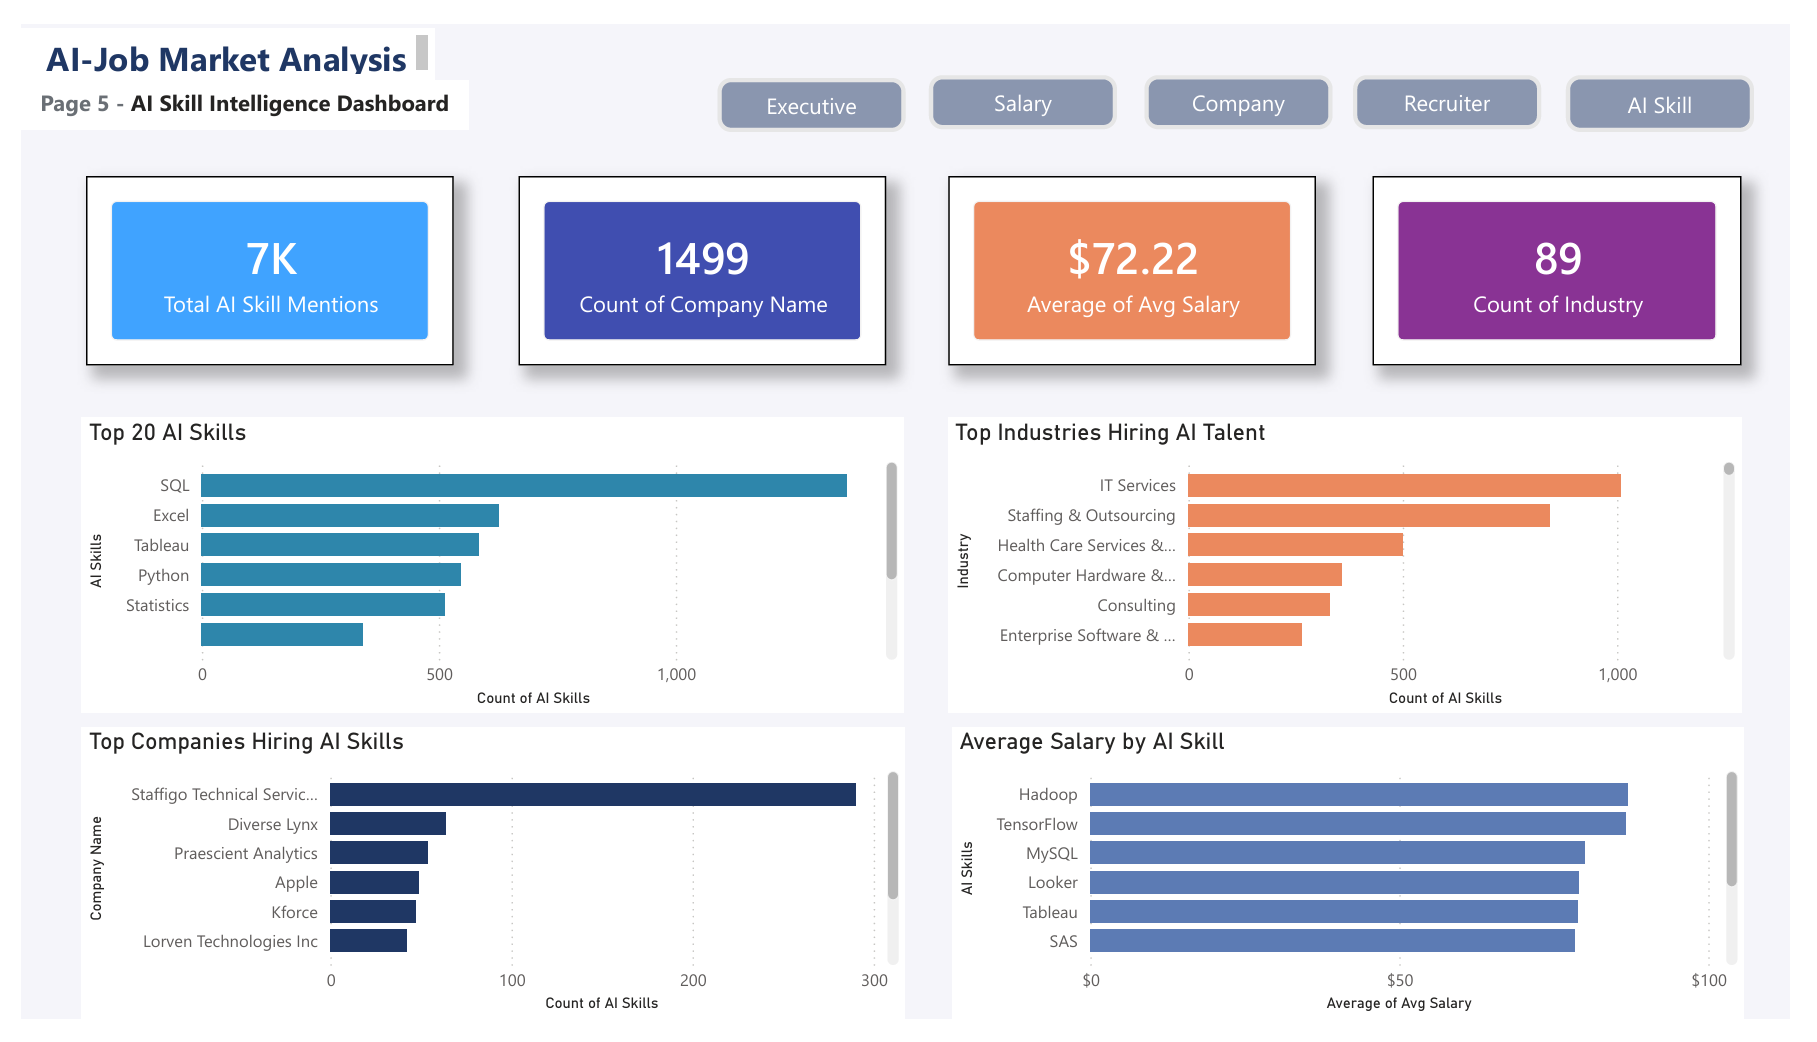

This screenshot's page, from the dashboard's own definition file:
{"tool":"powerbi","page":{"name":"AI Skill Intelligence Dashboard","canvas":[1280,720],"ordinal":4},"visuals":[{"type":"textbox","box":[0,2.7,299.1,38.4],"z":0},{"type":"textbox","box":[0,41.2,323.8,35.7],"z":1000},{"type":"cardVisual","fields":{"Data":["Count(jobs_ai.Industry)"]},"box":[978.4,109.8,266.2,137.2],"z":6000},{"type":"cardVisual","fields":{"Data":["jobs_ai.Total AI Skill Mentions"]},"box":[46.7,109.8,266.2,137.2],"z":7000},{"type":"cardVisual","fields":{"Data":["Count(jobs_ai.Company Name)"]},"box":[359.5,109.8,266.2,137.2],"z":8000},{"type":"cardVisual","fields":{"Data":["Avg(jobs_ai.Avg Salary)"]},"box":[671,109.8,266.2,137.2],"z":9000},{"type":"clusteredBarChart","title":"Top 20 AI Skills","fields":{"Category":["jobs_ai.AI Skills"],"Y":["CountNonNull(jobs_ai.AI Skills)"]},"box":[43.9,285.4,595.5,214.1],"z":10000},{"type":"clusteredBarChart","title":"Average Salary by AI Skill","fields":{"Category":["jobs_ai.AI Skills"],"Y":["Avg(jobs_ai.Avg Salary)"]},"box":[673.8,509.1,573.6,211.3],"z":11000},{"type":"clusteredBarChart","title":"Top Industries Hiring AI Talent","fields":{"Category":["jobs_ai.Industry"],"Y":["CountNonNull(jobs_ai.AI Skills)"]},"box":[671,285.4,573.6,214.1],"z":12000},{"type":"clusteredBarChart","title":"Top Companies Hiring AI Skills","fields":{"Category":["jobs_ai.Company Name"],"Y":["CountNonNull(jobs_ai.AI Skills)"]},"box":[44,509,596,211],"z":13000},{"type":"actionButton","box":[504.4,38.8,135.8,38.8],"z":13001},{"type":"actionButton","box":[656.8,37.4,135.8,38.8],"z":13002},{"type":"actionButton","box":[964.4,37.4,135.8,38.8],"z":13004},{"type":"actionButton","box":[1118.2,37.4,135.8,40.2],"z":13005},{"type":"actionButton","box":[813.3,37.4,135.8,38.8],"z":13006}]}

Visuals, with their boxes in screenshot pixels (x1, y1, x2, y2), scaled from the page's 1280x720 canvas onto the 1817x1042 screenshot:
textbox: [x1=0, y1=4, x2=425, y2=59]
textbox: [x1=0, y1=60, x2=460, y2=111]
cardVisual - Count(jobs_ai.Industry): [x1=1389, y1=159, x2=1767, y2=357]
cardVisual - jobs_ai.Total AI Skill Mentions: [x1=66, y1=159, x2=444, y2=357]
cardVisual - Count(jobs_ai.Company Name): [x1=510, y1=159, x2=888, y2=357]
cardVisual - Avg(jobs_ai.Avg Salary): [x1=953, y1=159, x2=1330, y2=357]
"Top 20 AI Skills" clusteredBarChart: [x1=62, y1=413, x2=908, y2=723]
"Average Salary by AI Skill" clusteredBarChart: [x1=956, y1=737, x2=1771, y2=1041]
"Top Industries Hiring AI Talent" clusteredBarChart: [x1=953, y1=413, x2=1767, y2=723]
"Top Companies Hiring AI Skills" clusteredBarChart: [x1=62, y1=737, x2=908, y2=1041]
actionButton: [x1=716, y1=56, x2=909, y2=112]
actionButton: [x1=932, y1=54, x2=1125, y2=110]
actionButton: [x1=1369, y1=54, x2=1562, y2=110]
actionButton: [x1=1587, y1=54, x2=1780, y2=112]
actionButton: [x1=1155, y1=54, x2=1347, y2=110]
